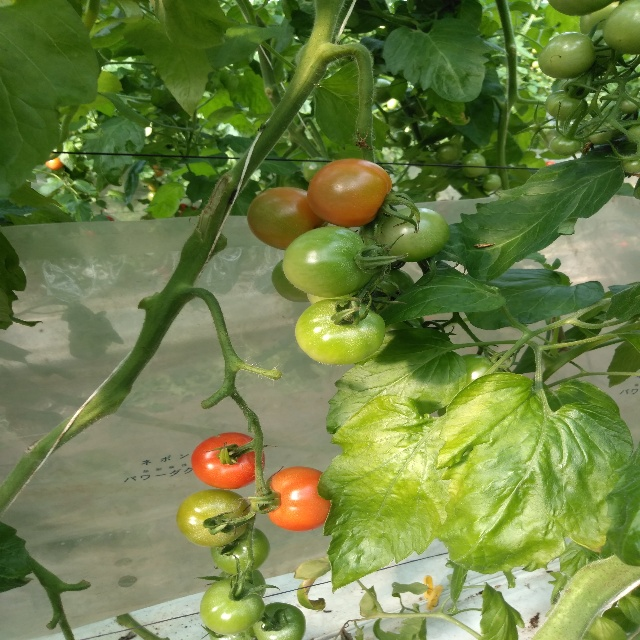l_fully_ripened: (191, 431, 265, 489)
l_green: (282, 226, 373, 298), (294, 297, 385, 365), (177, 489, 252, 548), (374, 207, 451, 263), (200, 579, 266, 635), (210, 524, 270, 576), (536, 32, 596, 80), (358, 266, 415, 313), (602, 0, 639, 55), (254, 603, 306, 640), (271, 259, 310, 303), (216, 570, 267, 597), (544, 90, 588, 121), (578, 2, 620, 34), (547, 0, 613, 17), (550, 136, 581, 156), (588, 127, 613, 145), (619, 96, 639, 114), (620, 156, 639, 173), (625, 124, 640, 143)
l_half_ripened: (307, 159, 394, 227), (247, 186, 323, 250), (263, 465, 333, 532)
